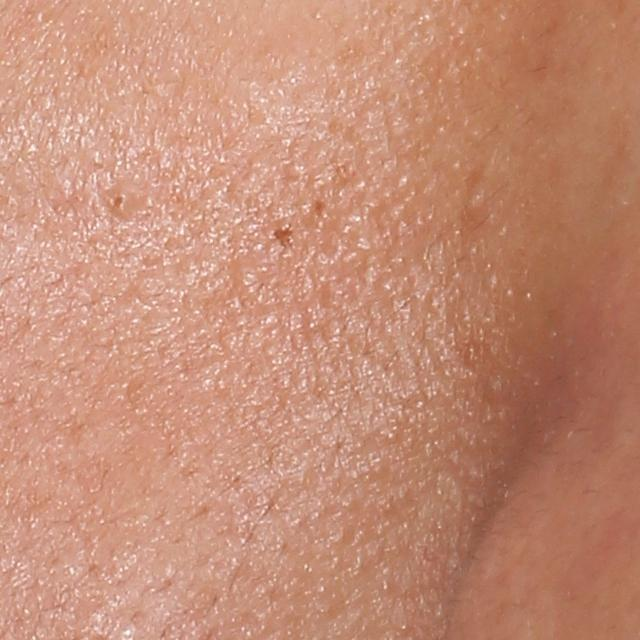comedo: (102, 188, 133, 221)
